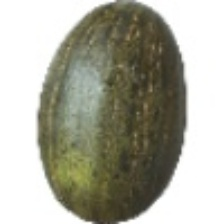honeydew: (17, 18, 184, 174)
